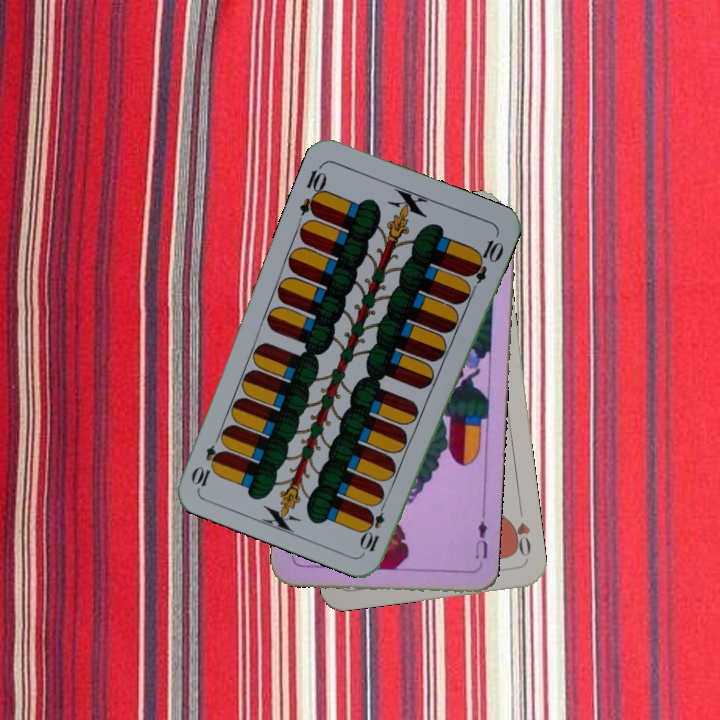E10: (295, 160, 330, 219), (358, 496, 389, 555)
EU: (471, 517, 490, 561)
HO: (506, 503, 534, 559)
